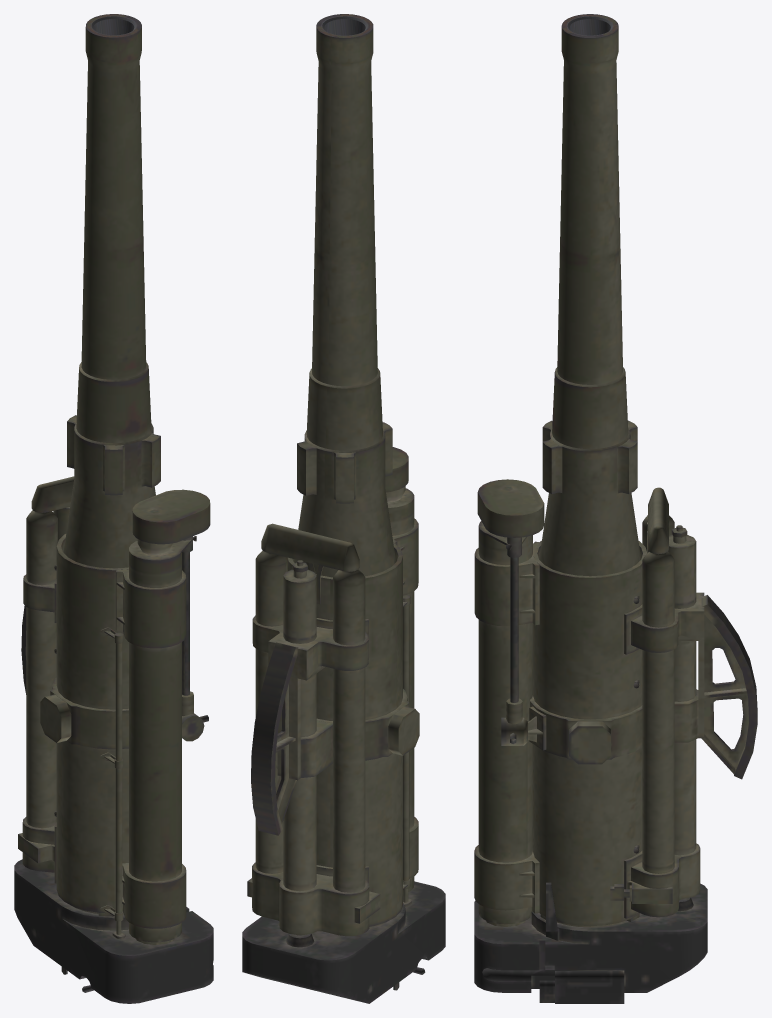
Rendered from Gun_03.glb.
3 renders of one model, left to right at view 1: azimuth 30°, elevation 25°; view 2: azimuth 150°, elevation 25°; view 3: azimuth 270°, elevation 25°, orthographic.
Parts seen in each view (by area): view 1: set_0_group_0; view 2: set_0_group_0; view 3: set_0_group_0.
Boxes of the visible parts, x1,y1,x2,y2 form: set_0_group_0: [14, 14, 213, 1003]; set_0_group_0: [242, 14, 445, 1003]; set_0_group_0: [474, 14, 757, 1003].
Size of the model in its own units: 0.7224 by 5.23 by 1.39.
Materials: 1 (1 with a texture image).
